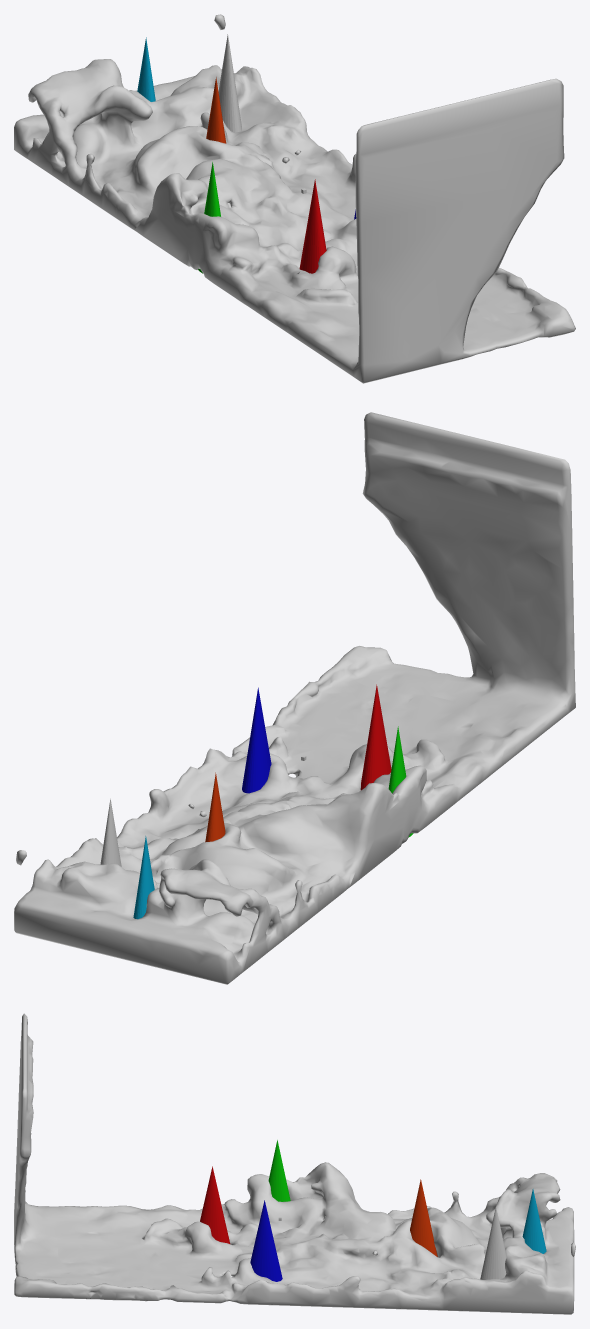
3 views of the same model, one above another, from view 1: azimuth 30°, elevation 25°; view 2: azimuth 150°, elevation 25°; view 3: azimuth 270°, elevation 25° (orthographic). The views are drawn at different scales.
Visible parts, largest first — view 1: Liquid_Domain, 円錐.001, 円錐, 円錐.004, 円錐.005, 円錐.003; view 2: Liquid_Domain, 円錐.002, 円錐.001, 円錐.005, 円錐.004, 円錐; view 3: Liquid_Domain, 円錐.002, 円錐, 円錐.001, 円錐.004, 円錐.005, 円錐.003.
Boxes of the visible parts, <box> form: Liquid_Domain: <box>14,14,575,383</box>; 円錐.001: <box>299,179,326,273</box>; 円錐: <box>218,34,241,132</box>; 円錐.004: <box>206,77,226,143</box>; 円錐.005: <box>137,37,155,101</box>; 円錐.003: <box>198,162,220,273</box>; Liquid_Domain: <box>14,412,575,984</box>; 円錐.002: <box>242,687,271,793</box>; 円錐.001: <box>360,684,391,790</box>; 円錐.005: <box>133,836,154,919</box>; 円錐.004: <box>205,772,225,842</box>; 円錐: <box>100,798,121,866</box>; Liquid_Domain: <box>14,1013,575,1314</box>; 円錐.002: <box>250,1200,282,1281</box>; 円錐: <box>480,1207,506,1279</box>; 円錐.001: <box>200,1166,230,1243</box>; 円錐.004: <box>410,1179,437,1256</box>; 円錐.005: <box>522,1189,546,1253</box>; 円錐.003: <box>268,1140,290,1201</box>.
Size of the model in its own units: 129 by 158 by 362.
